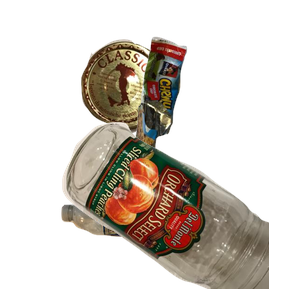glass: (60, 120, 300, 300)
metal: (78, 37, 243, 163)
plastic: (59, 193, 241, 300)
trash: (130, 34, 300, 203)
